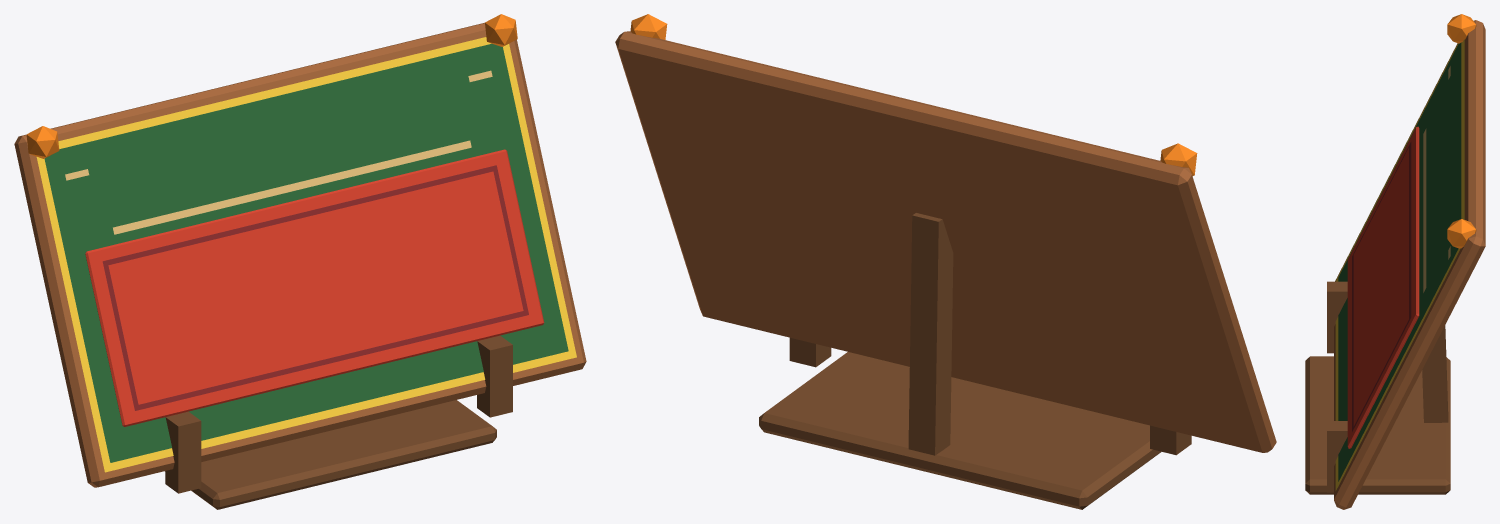
Rendered from seats_board.glb.
3 views of the same model, side by side, from view 1: azimuth 30°, elevation 25°; view 2: azimuth 150°, elevation 25°; view 3: azimuth 270°, elevation 25° (orthographic). The views are drawn at different scales.
Parts seen in each view (by area): view 1: board, full_plate; view 2: board; view 3: board, full_plate.
Part boxes in pixels (x1=…): board: x1=14, y1=14, x2=586, y2=509; full_plate: x1=85, y1=149, x2=544, y2=426; board: x1=615, y1=14, x2=1276, y2=509; board: x1=1305, y1=14, x2=1485, y2=509; full_plate: x1=1347, y1=126, x2=1419, y2=448.
Bounding box in the file's own units: 1.08 × 0.7211 × 0.3726.
Materials: 1 (1 with a texture image).
